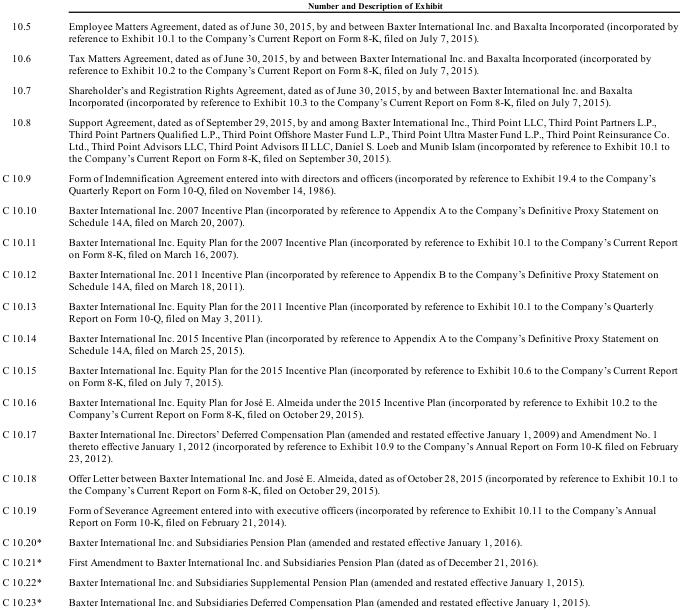table: (1, 0, 677, 607)
table column: (54, 0, 677, 607), (1, 0, 54, 607)
table column header: (1, 0, 677, 15)
table row: (1, 531, 677, 591), (1, 111, 677, 167), (1, 423, 677, 467), (1, 15, 677, 47), (1, 47, 677, 79), (1, 79, 677, 111), (1, 167, 677, 199), (1, 199, 677, 231), (1, 231, 677, 263), (1, 263, 677, 295), (1, 295, 677, 327), (1, 327, 677, 359), (1, 359, 677, 391), (1, 391, 677, 423), (1, 467, 677, 499), (1, 499, 677, 531), (1, 591, 677, 607), (1, 0, 677, 15)
